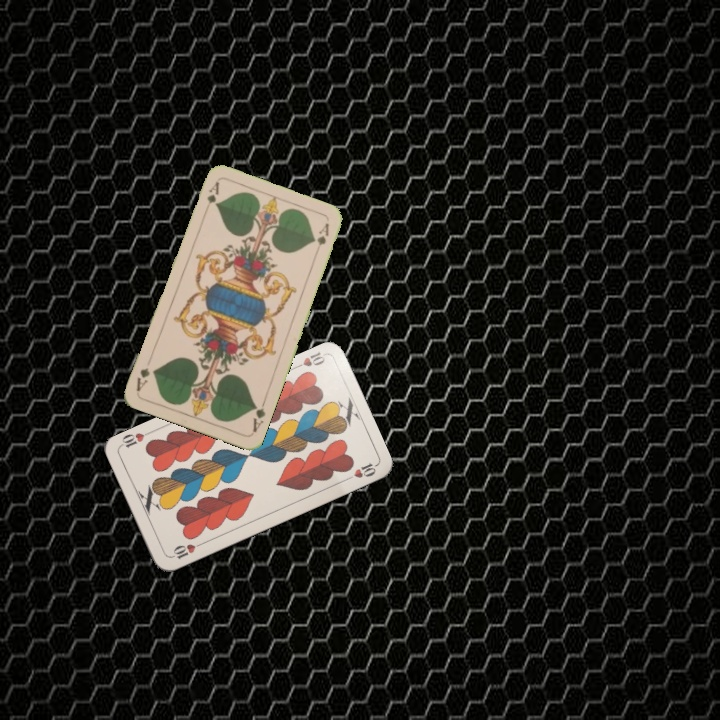GA: (200, 178, 222, 217), (248, 396, 268, 435)
H10: (167, 538, 206, 562), (289, 348, 328, 372)
